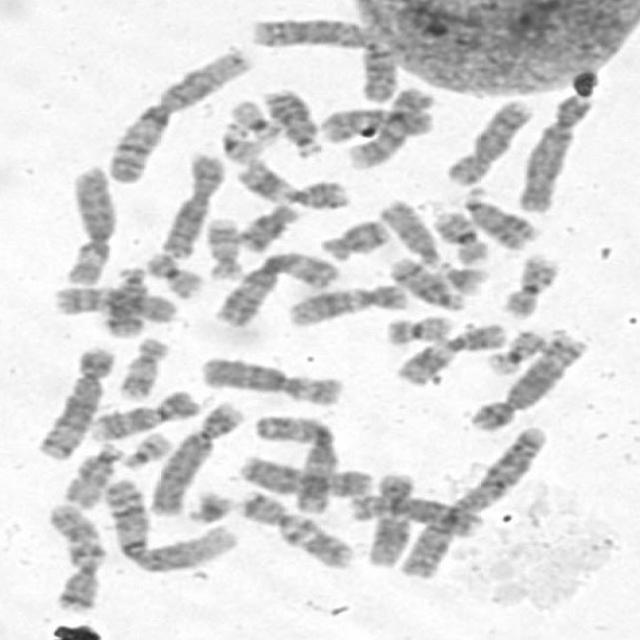A1: (105, 45, 258, 186), (104, 477, 242, 575)
A2: (395, 426, 550, 579), (250, 19, 403, 104)
A3: (210, 251, 343, 331), (254, 414, 339, 516)
B4: (147, 401, 246, 520), (515, 94, 593, 214)
B5: (468, 330, 591, 433), (36, 344, 116, 462)
C10: (53, 283, 180, 326), (320, 107, 436, 144)
C11: (393, 322, 508, 386), (235, 159, 352, 211)
C12: (285, 283, 410, 328), (367, 472, 418, 568)
C6: (199, 357, 342, 407), (65, 165, 117, 287)
C7: (235, 488, 355, 572), (46, 502, 109, 615)
C8: (446, 97, 536, 188), (349, 493, 486, 539)
C9: (342, 87, 436, 173), (87, 390, 202, 445)
D13: (462, 185, 542, 252), (262, 89, 327, 160)
D14: (383, 255, 468, 314), (102, 266, 149, 341)
D15: (375, 198, 441, 268), (59, 442, 122, 512)
E16: (502, 252, 560, 320), (429, 210, 491, 267)
E17: (119, 337, 170, 400), (206, 216, 244, 282)
E18: (319, 219, 390, 263), (238, 204, 298, 252)
F19: (486, 330, 548, 379), (229, 99, 285, 147)
F20: (144, 252, 206, 300), (385, 313, 453, 347)
G21: (184, 488, 237, 528), (438, 261, 492, 299)
G22: (120, 429, 176, 472), (219, 121, 264, 167)
X: (157, 152, 226, 261), (236, 454, 372, 499)
